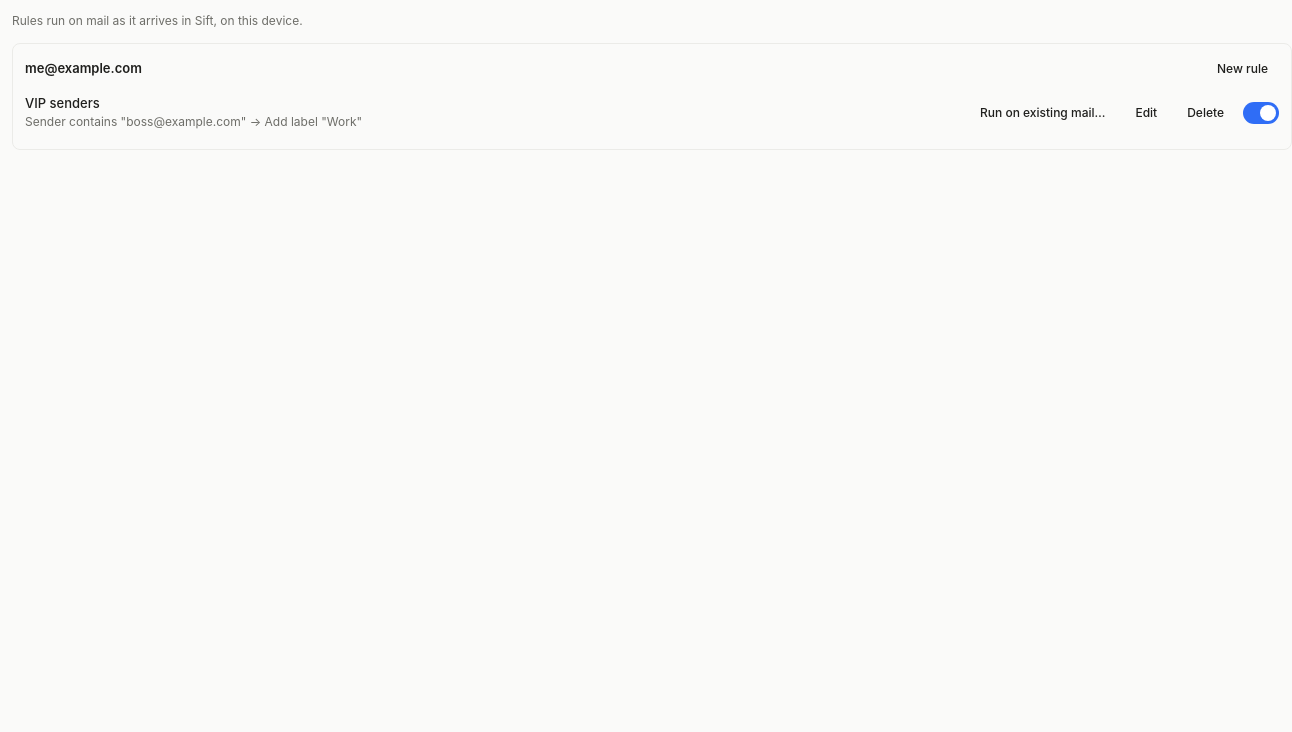
Test: Settings -> Rules (P8.3) › stores a hasAttachment condition as isTrue with no value
Check: the text "VIP senders" is shown, box [25,95,100,111]
Click the button "New rule": (1242, 68) [1206,54,1279,82]
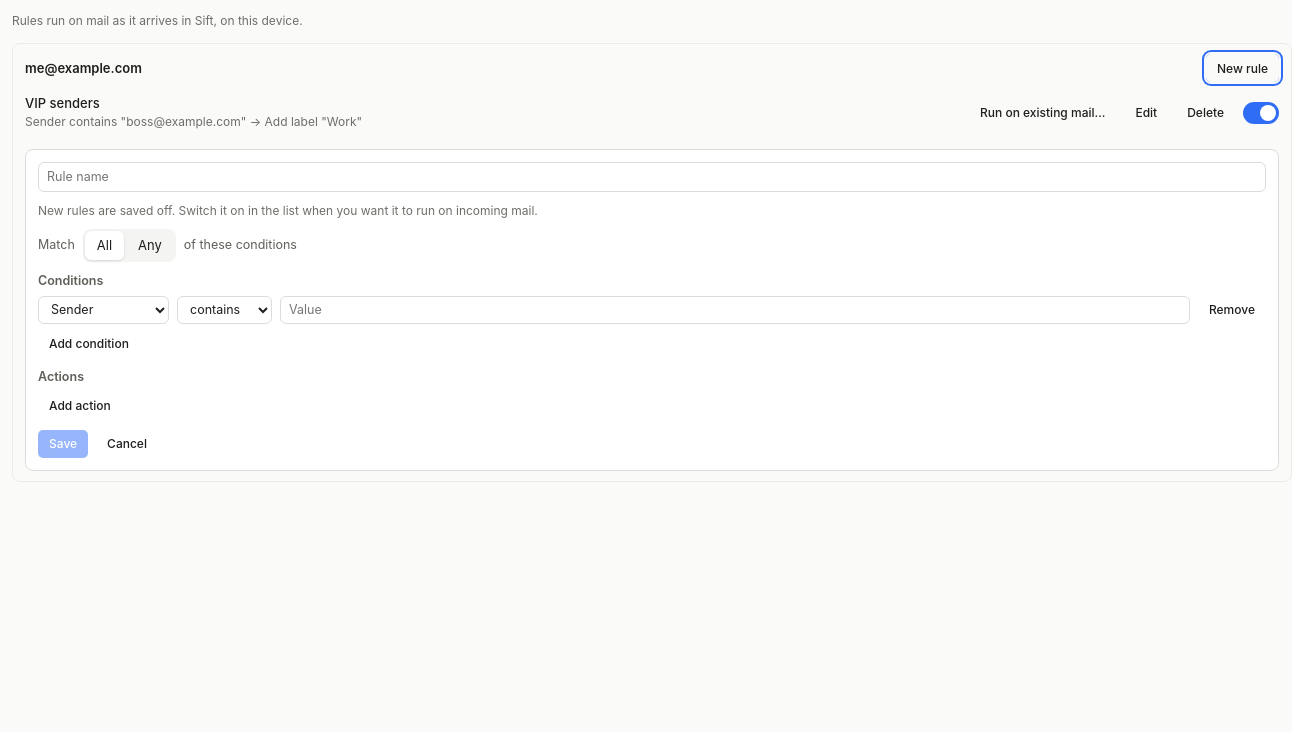
In the field labelled "Rule name": (652, 177) [38,162,1266,192], type "Invoices"
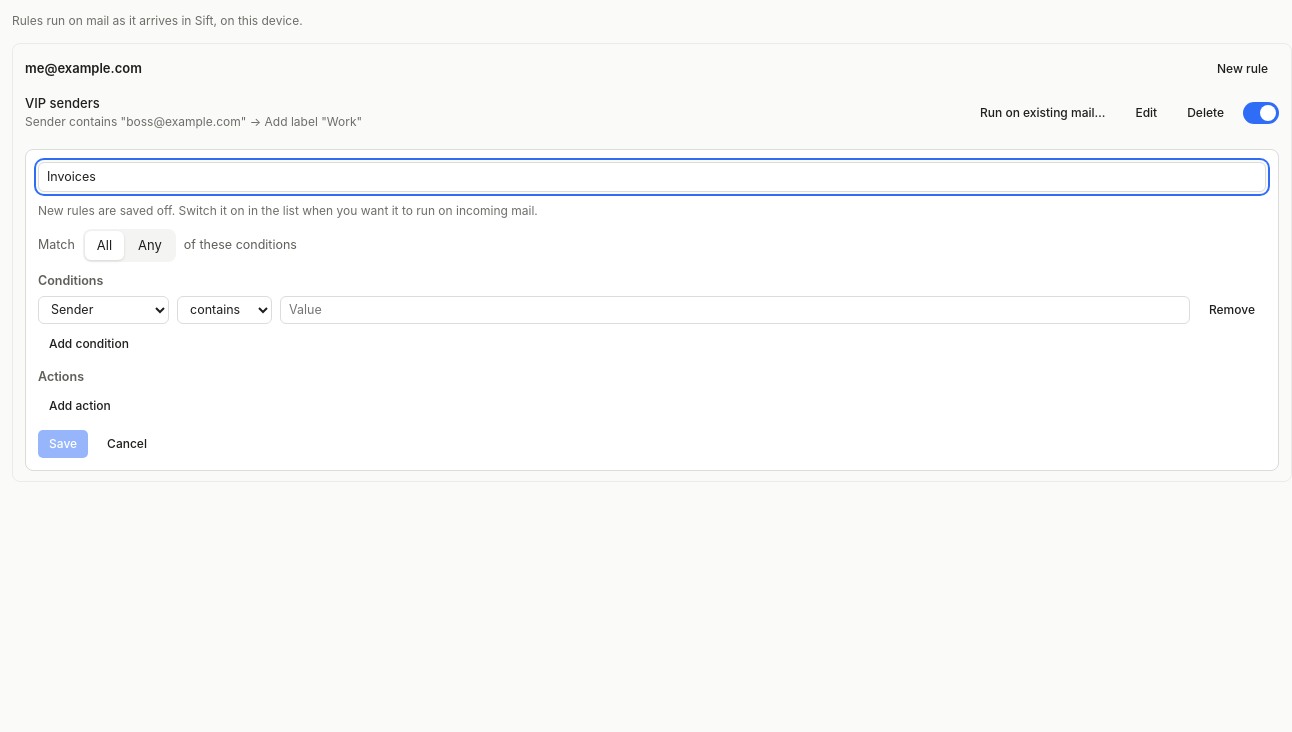
Select "Has attachment" in the dropdown named "Condition field": (104, 310) [38,296,169,324]
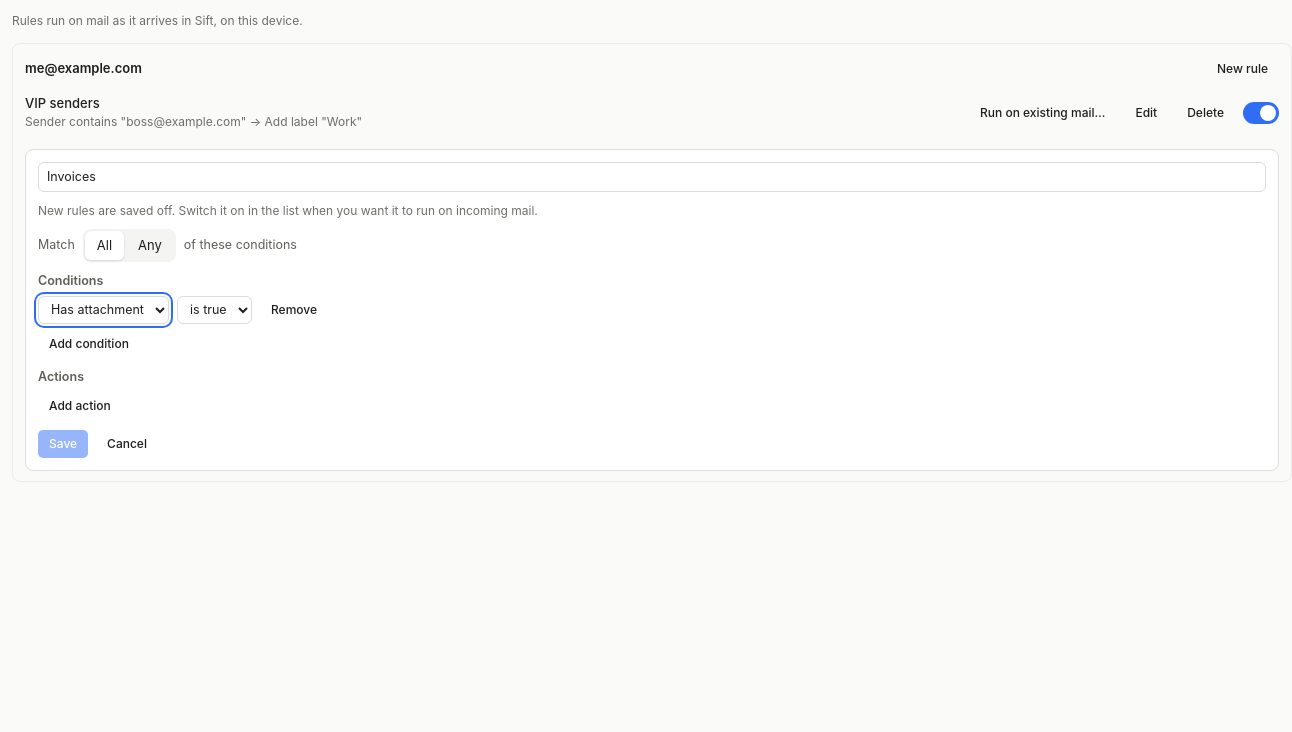
Check: the dropdown named "Condition operator" shows "is true", box [177,296,252,324]
Check: the field labelled "Condition value" is gone
Click the button "Add action": (80, 406) [38,392,122,420]
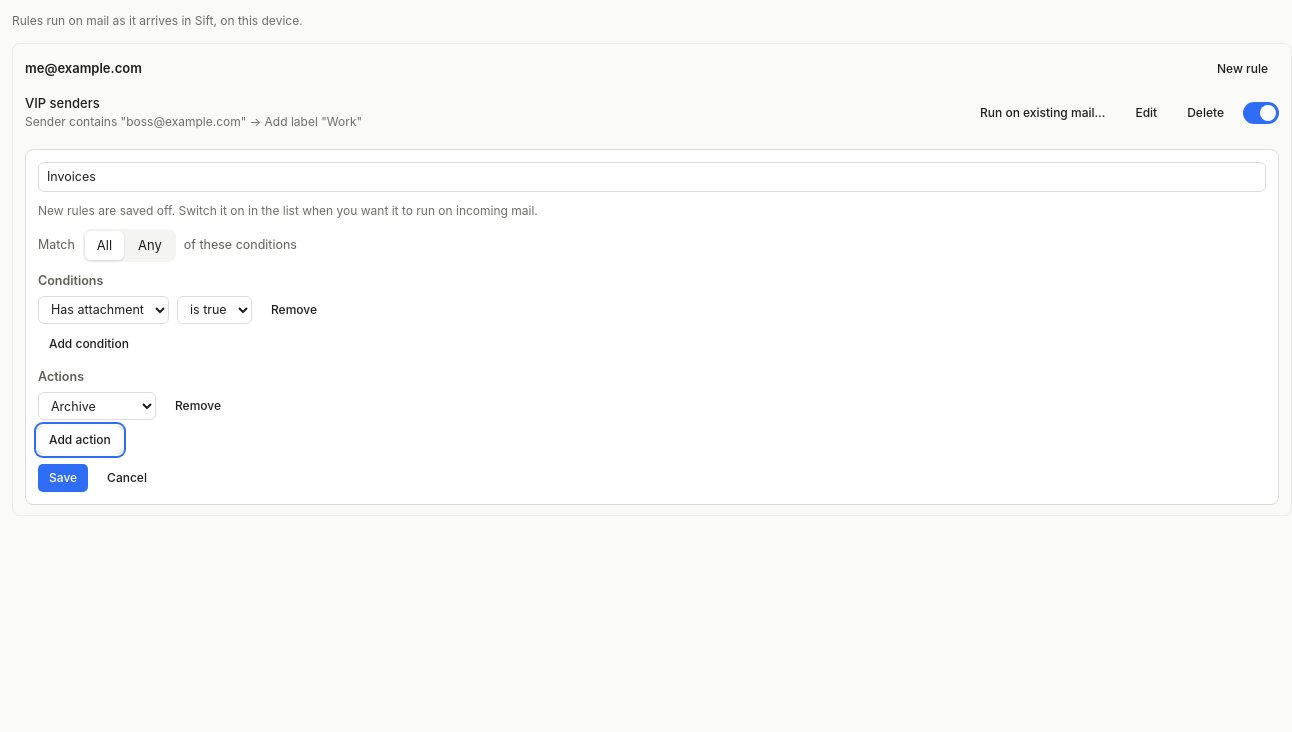
Click the button "Save": (63, 478) [38,464,88,492]
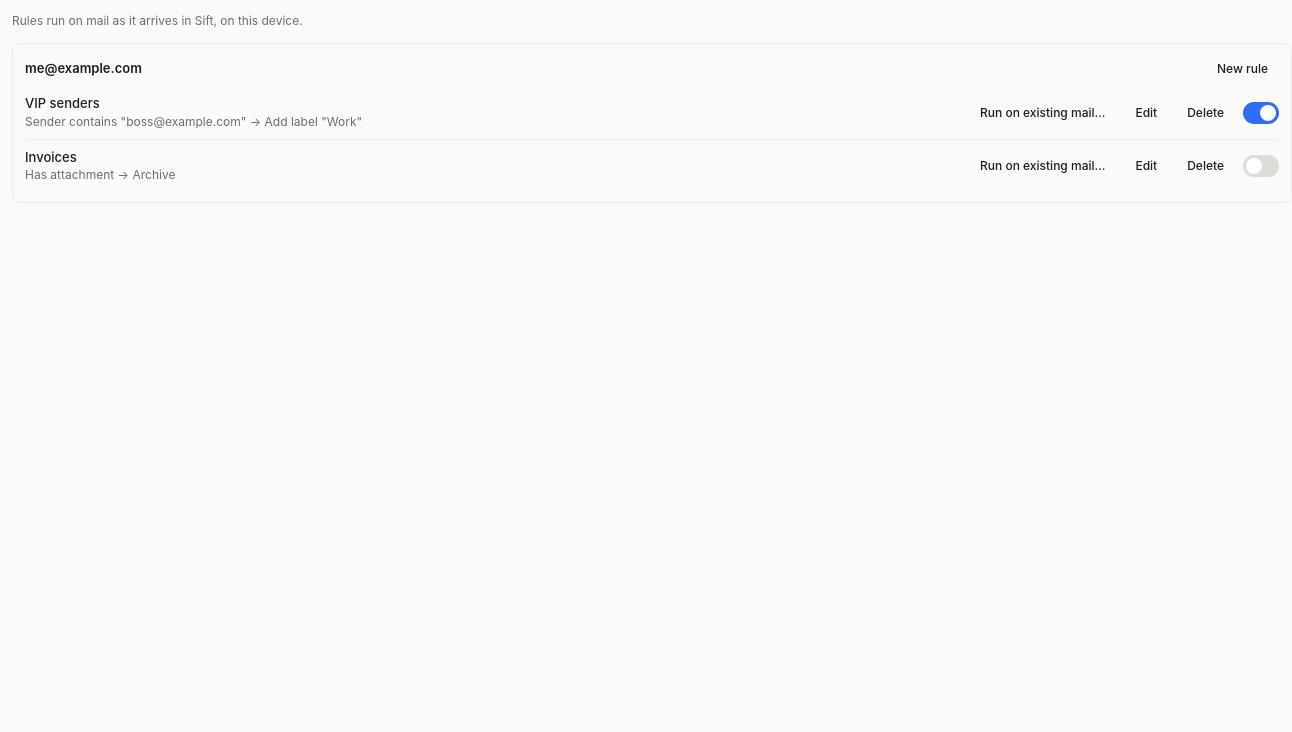
Check: the text "Invoices" is shown, box [25,149,77,165]
Check: the text "Has attachment → Archive" is shown, box [25,168,175,182]
